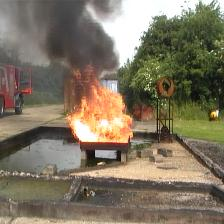fire: (65, 62, 133, 142)
